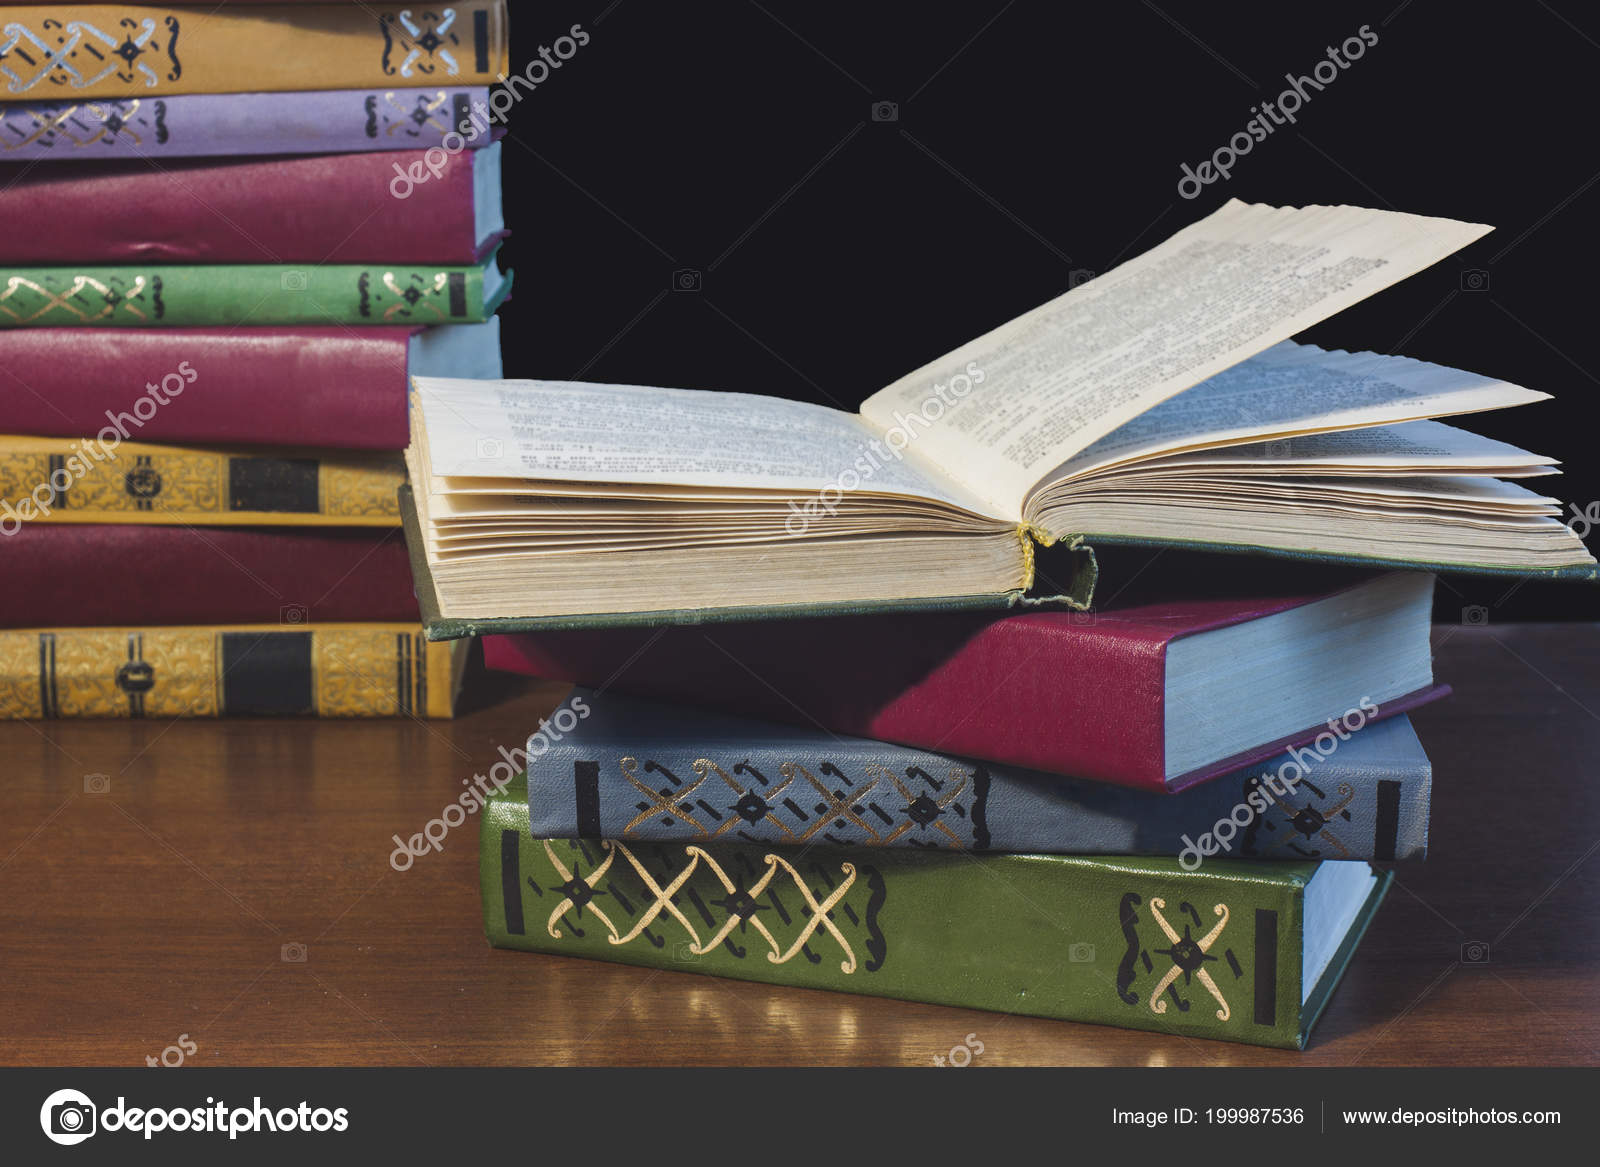Open Book: (398, 180, 1600, 625)
